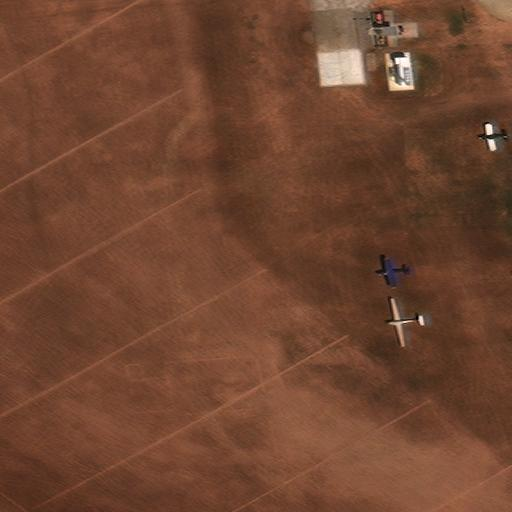Medium Civil Transport: (388, 298, 424, 346)
Small Civil Transport: (377, 258, 409, 288), (477, 123, 507, 150)
